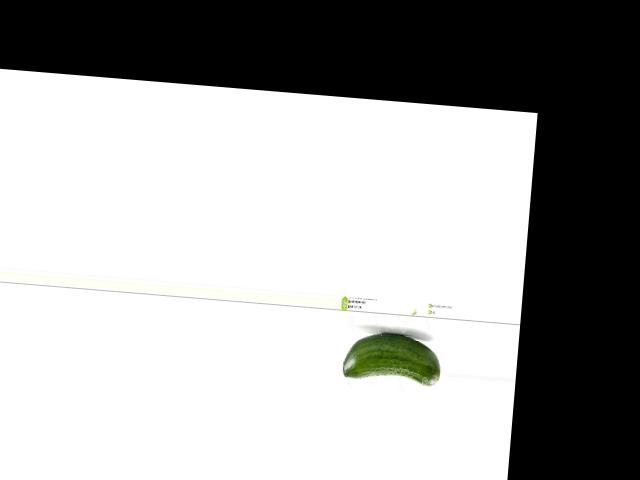cucumber: (342, 329, 443, 385)
